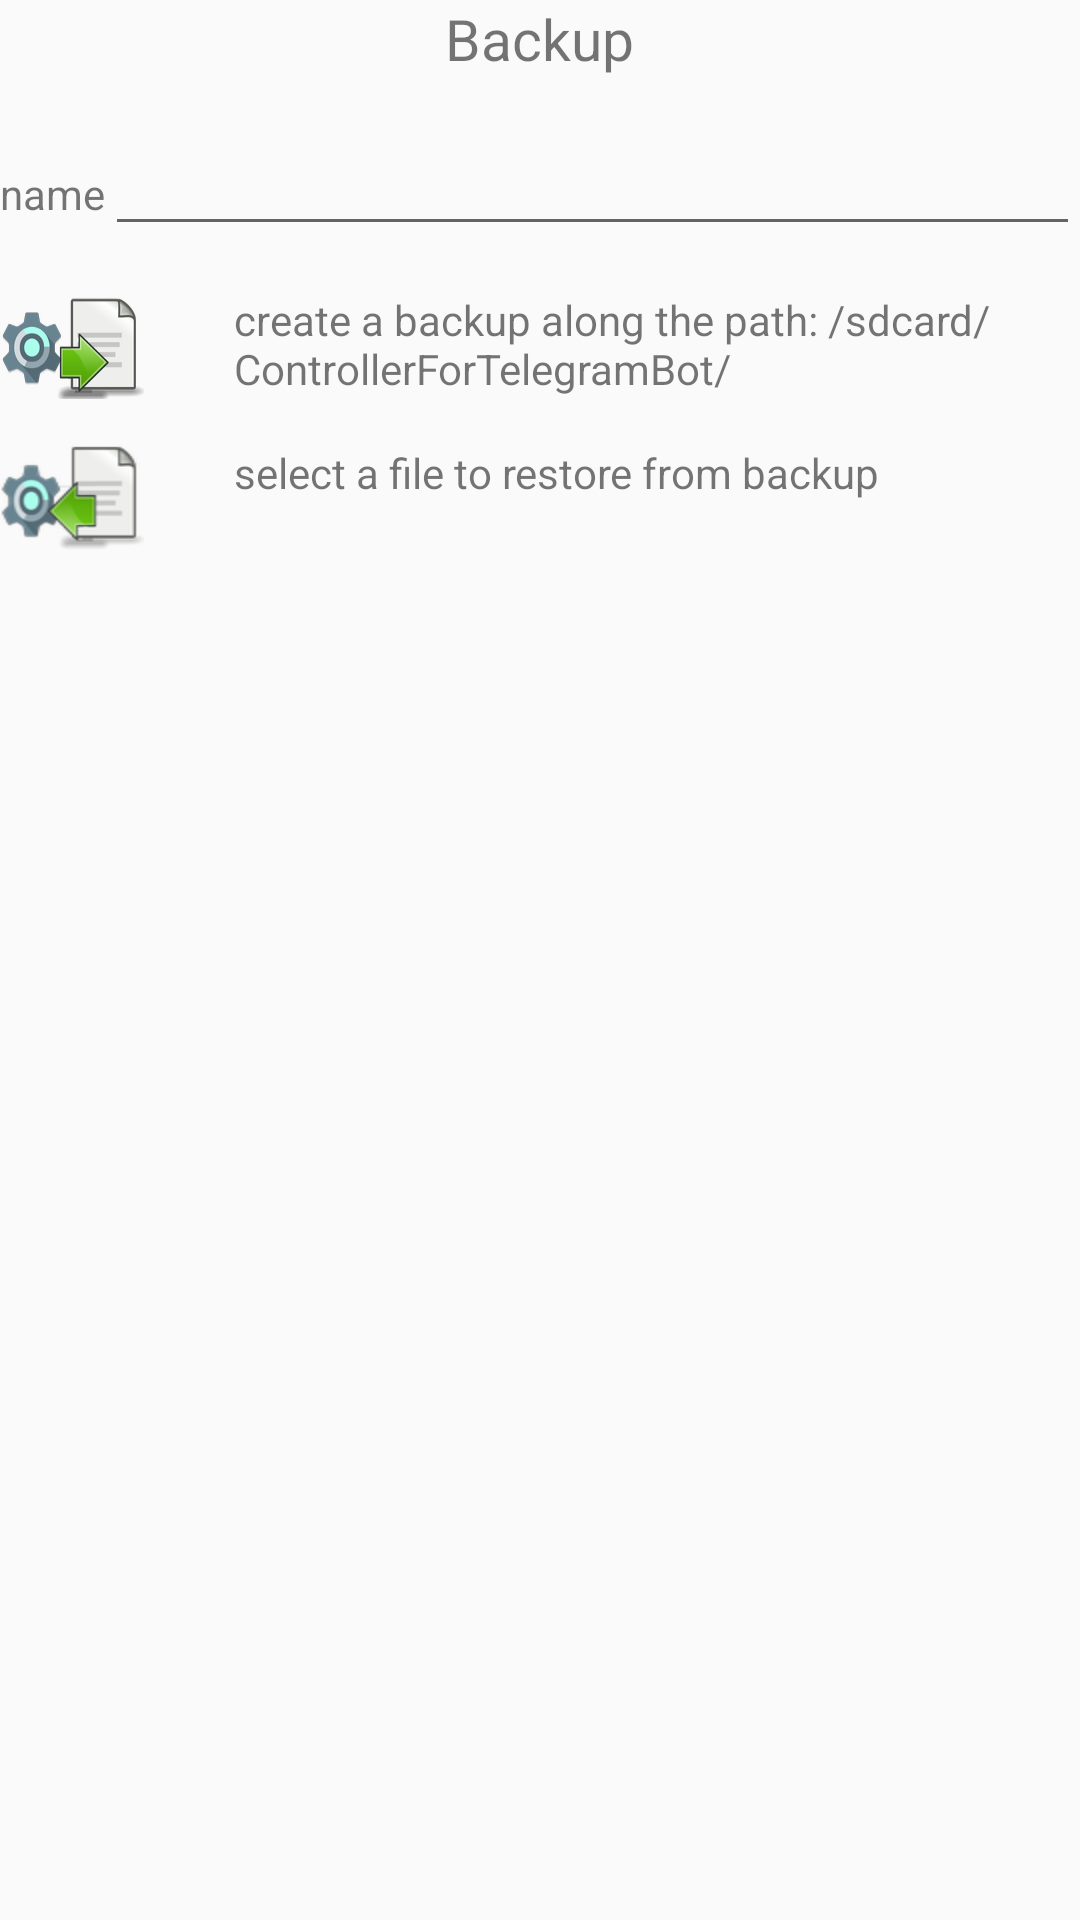

Icons on this 1080x1920 Android screen, each with its box as {"left": x1, "top": y1, "right": x2, "bottom": y2}:
export: {"left": 3, "top": 298, "right": 143, "bottom": 399}
